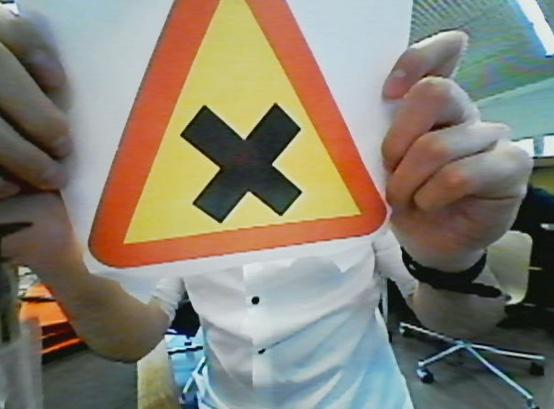junction: (81, 1, 388, 268)
